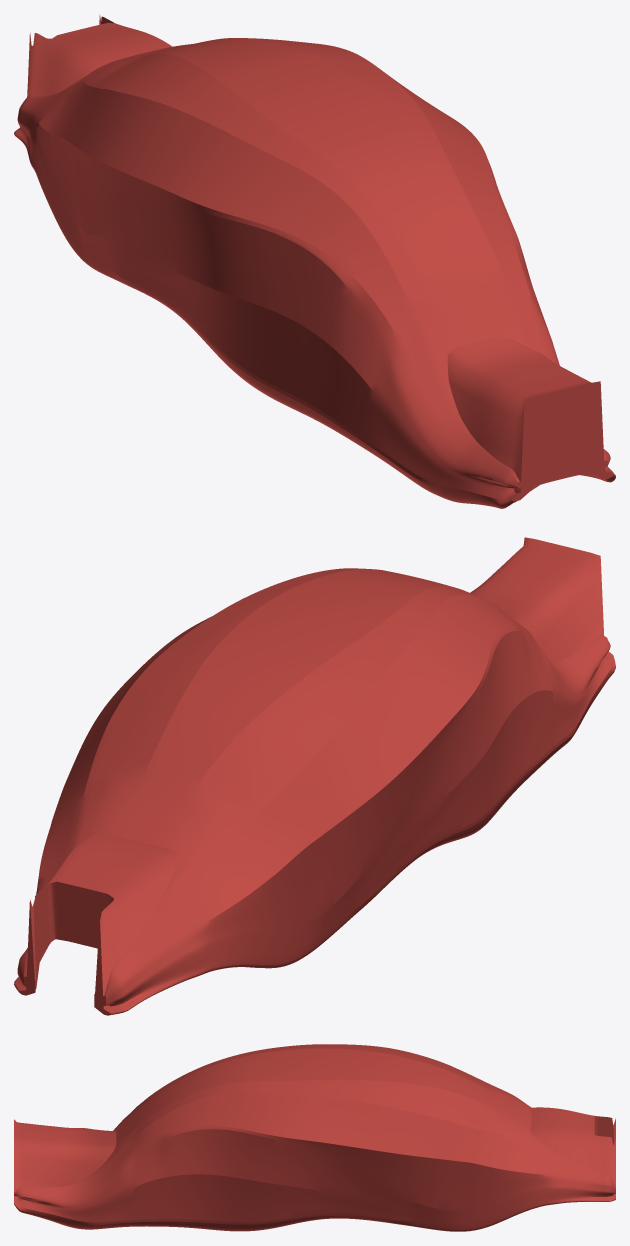
Rendered from sports_tourer_1.glb.
3 renders of one model, top to bottom at view 1: azimuth 30°, elevation 25°; view 2: azimuth 150°, elevation 25°; view 3: azimuth 270°, elevation 25°, orthographic. The views are drawn at different scales.
Visible parts, largest first — view 1: lod0; view 2: lod0; view 3: lod0.
Boxes of the visible parts, box(x1,y1,x2,y2) form: lod0: box(14, 15, 615, 508); lod0: box(14, 537, 615, 1015); lod0: box(14, 1044, 615, 1231).
Size of what is drawn, in the model's own units: 0.4531 by 0.3581 by 1.33.
